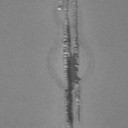slag inclusion: (56, 0, 82, 126)
